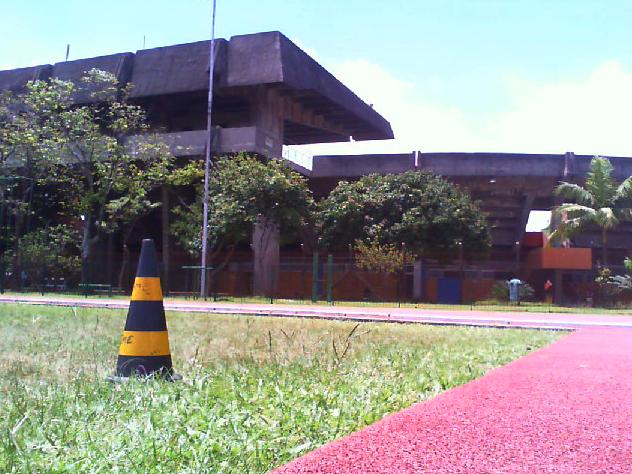0 cone: (108, 238, 181, 382)
